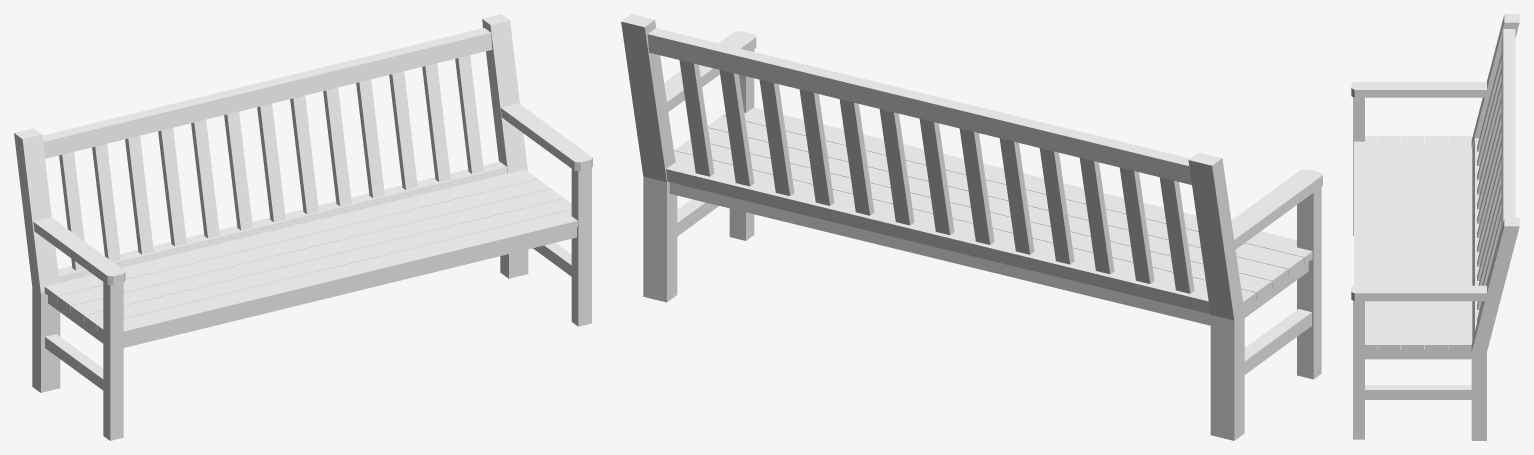
File: Prop_Bench_02.glb
3 views of the same model, side by side, from view 1: azimuth 30°, elevation 25°; view 2: azimuth 150°, elevation 25°; view 3: azimuth 270°, elevation 25° (orthographic). The views are drawn at different scales.
Parts seen in each view (by area): view 1: Prop_Bench_02; view 2: Prop_Bench_02; view 3: Prop_Bench_02.
Boxes of the visible parts, left/top/right/bottom form: Prop_Bench_02: left=14, top=14, right=592, bottom=440; Prop_Bench_02: left=621, top=14, right=1322, bottom=440; Prop_Bench_02: left=1351, top=14, right=1519, bottom=440.
Bounding box in the file's own units: 1.91 × 0.9 × 0.64.
Materials: 1 (1 with a texture image).
